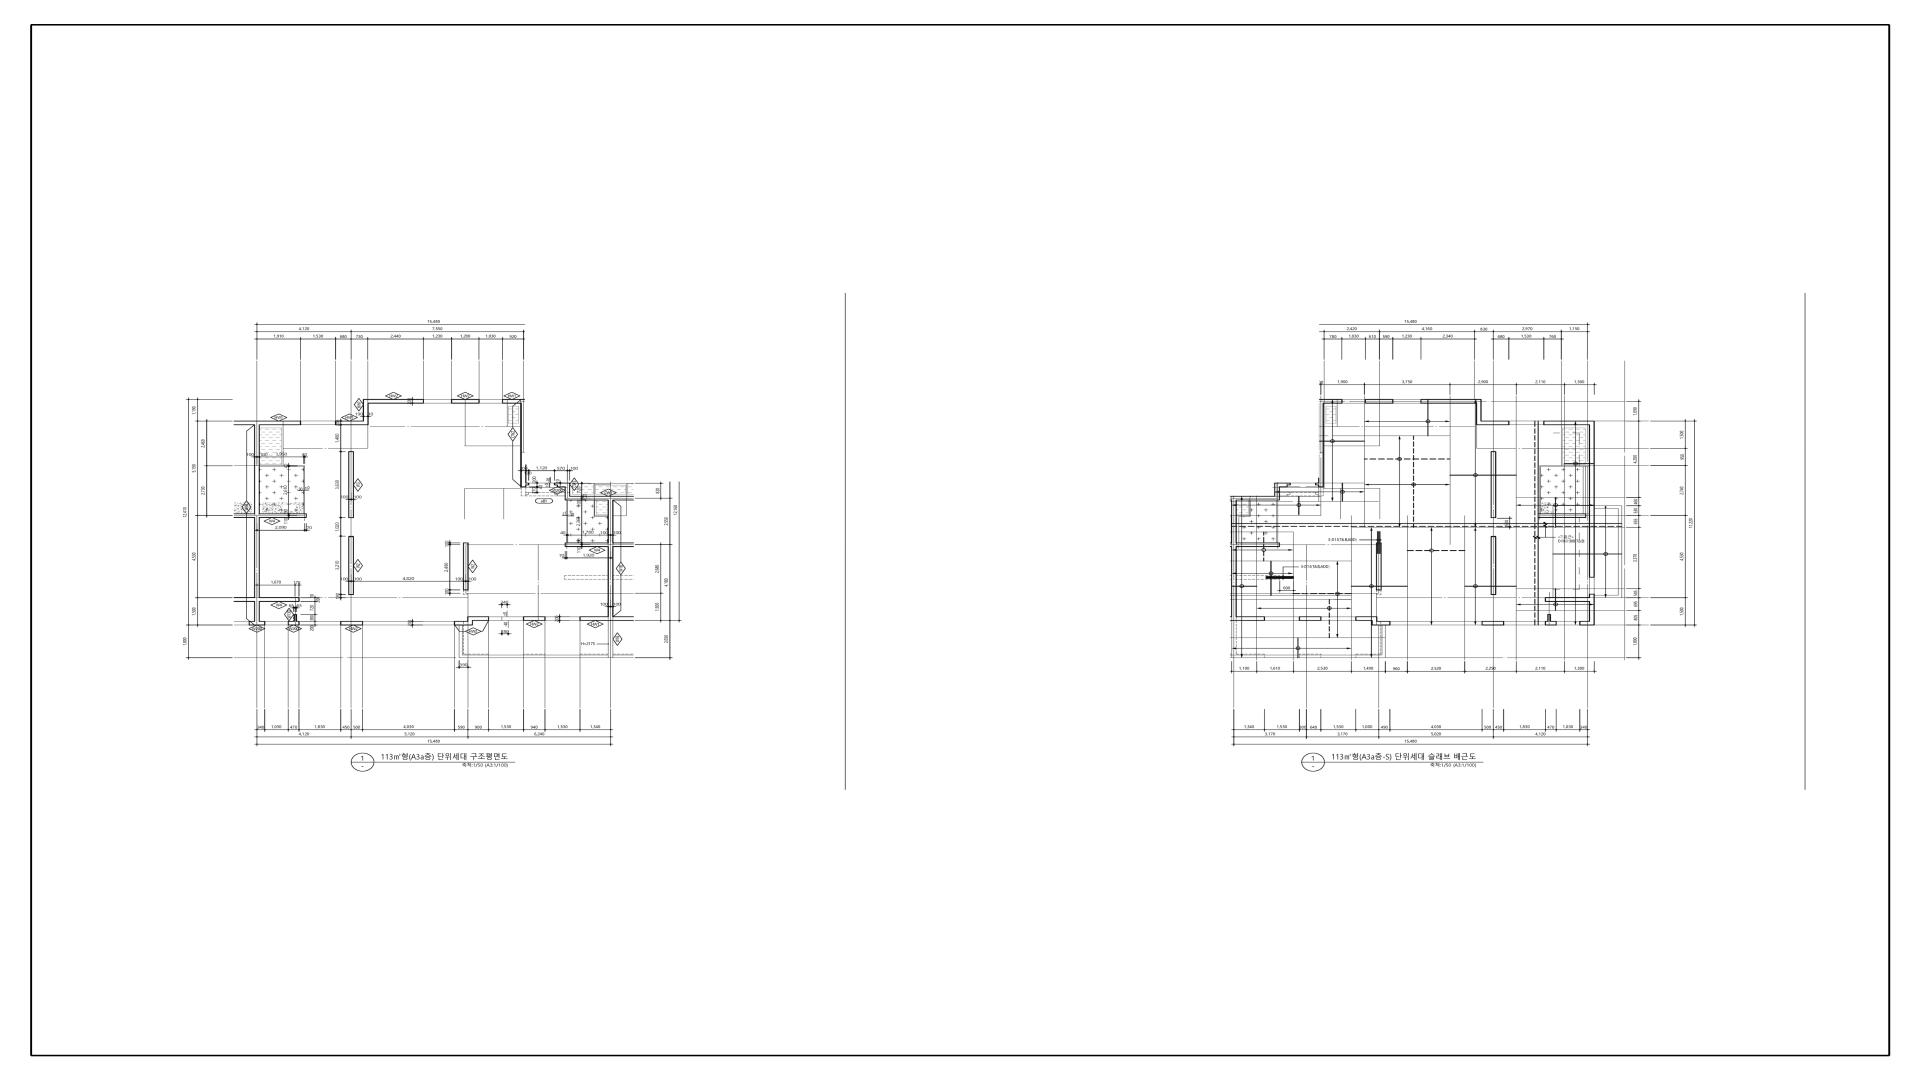wall: (1231, 523, 1535, 527), (1589, 425, 1595, 523), (254, 425, 260, 514), (1318, 399, 1324, 487), (1534, 421, 1539, 523), (1534, 527, 1539, 625), (254, 518, 260, 597), (1230, 655, 1386, 658), (459, 655, 608, 658), (608, 547, 614, 616), (1231, 547, 1237, 616), (348, 451, 354, 518), (348, 536, 354, 595), (1491, 451, 1496, 518), (1589, 527, 1595, 578), (1491, 536, 1496, 595), (463, 543, 469, 590), (369, 399, 424, 404), (1421, 399, 1476, 404), (1618, 527, 1622, 595), (608, 500, 614, 543), (1545, 597, 1595, 602), (1539, 513, 1586, 518), (1534, 523, 1589, 527), (1376, 554, 1382, 590), (1544, 421, 1595, 425), (260, 597, 300, 602), (520, 404, 524, 452), (260, 514, 307, 518), (608, 621, 613, 658), (1230, 616, 1265, 621), (565, 496, 608, 500), (565, 543, 608, 547), (1237, 543, 1280, 547), (260, 421, 301, 425), (520, 465, 527, 487), (1237, 496, 1274, 500), (451, 399, 480, 404), (580, 616, 608, 621), (1365, 399, 1393, 404), (1231, 500, 1237, 523), (335, 421, 369, 425), (363, 399, 369, 421), (1589, 523, 1622, 527), (1476, 421, 1509, 425), (1476, 399, 1482, 421), (459, 625, 463, 655), (1382, 626, 1386, 655), (340, 621, 363, 626), (523, 616, 546, 621), (254, 602, 260, 621), (1589, 602, 1595, 621), (502, 399, 524, 404), (1299, 616, 1321, 621), (1482, 621, 1504, 626), (1274, 483, 1280, 500), (234, 597, 254, 602), (614, 616, 634, 621), (1231, 527, 1237, 543), (454, 621, 473, 626), (1372, 621, 1391, 626), (1324, 399, 1342, 404), (1355, 617, 1377, 621), (613, 543, 634, 547), (613, 496, 634, 500), (1266, 576, 1294, 579), (1595, 595, 1622, 598), (234, 421, 254, 425), (249, 621, 265, 626), (473, 616, 489, 621), (234, 514, 254, 518), (1579, 621, 1595, 626), (1595, 506, 1618, 509), (1618, 506, 1622, 523), (1376, 543, 1382, 554), (554, 483, 570, 487), (613, 655, 634, 658), (1545, 621, 1557, 626), (288, 621, 300, 625), (565, 487, 570, 496), (1280, 483, 1291, 487), (254, 597, 260, 602), (608, 616, 614, 621), (1230, 496, 1237, 500), (1230, 543, 1237, 547), (1547, 614, 1551, 621), (467, 617, 473, 621), (608, 496, 614, 500), (608, 543, 614, 547), (254, 421, 260, 425), (254, 514, 260, 518), (294, 614, 297, 621), (1589, 594, 1595, 597), (526, 483, 529, 485), (1315, 483, 1318, 485)
